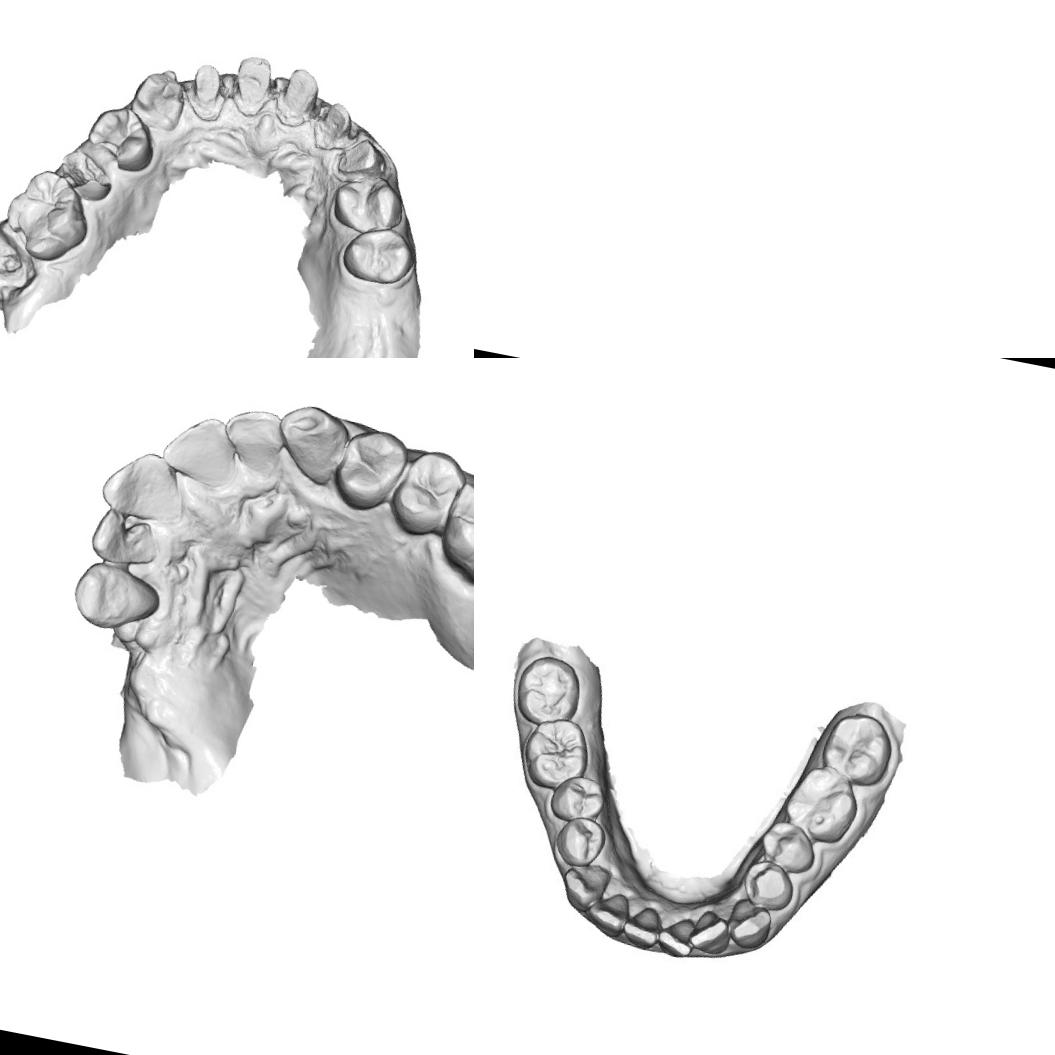canine: (66, 555, 167, 638), (271, 399, 351, 489), (122, 61, 193, 134), (557, 860, 614, 912), (727, 900, 774, 950)
crown: (227, 49, 278, 118), (274, 60, 325, 126), (334, 132, 390, 182), (184, 54, 228, 113), (314, 97, 356, 145)
incisor: (94, 442, 190, 528), (158, 406, 240, 486), (218, 401, 290, 478), (84, 507, 160, 570), (688, 910, 731, 955), (588, 888, 631, 930), (626, 901, 666, 943), (656, 917, 694, 954)
molar: (0, 161, 98, 269), (782, 759, 863, 848), (509, 648, 584, 727), (820, 707, 895, 784), (431, 466, 474, 596), (520, 716, 591, 790)
premolar: (381, 442, 467, 542), (328, 421, 412, 517), (324, 168, 410, 243), (80, 98, 162, 176), (336, 216, 420, 291), (50, 130, 125, 204), (756, 817, 822, 874), (552, 768, 608, 825), (740, 861, 797, 912), (553, 813, 606, 865)
